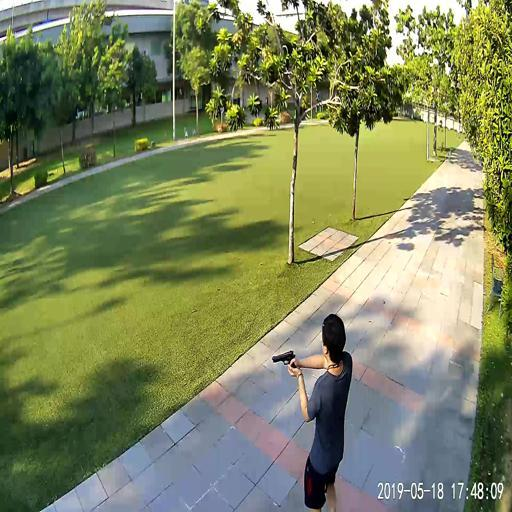Handgun: (271, 348, 295, 368)
